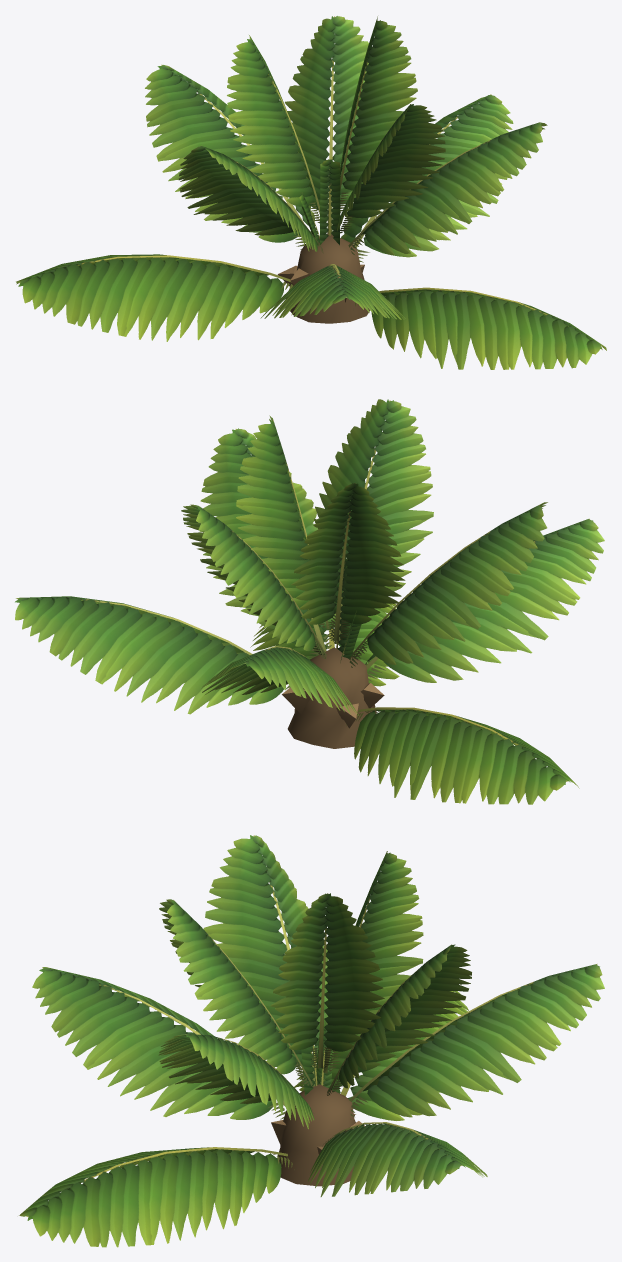
File: sawit_1.glb
3 renders of one model, top to bottom at view 1: azimuth 30°, elevation 25°; view 2: azimuth 150°, elevation 25°; view 3: azimuth 270°, elevation 25°, orthographic. The views are drawn at different scales.
Parts seen in each view (by area): view 1: sawit_1_body; view 2: sawit_1_body; view 3: sawit_1_body.
Boxes of the visible parts, box(x1,y1,x2,y2) form: sawit_1_body: box(16, 16, 606, 369); sawit_1_body: box(15, 399, 604, 804); sawit_1_body: box(19, 835, 604, 1247).
Bounding box in the file's own units: 2.31 × 1.2 × 2.13.
2 materials, 1 textured.
